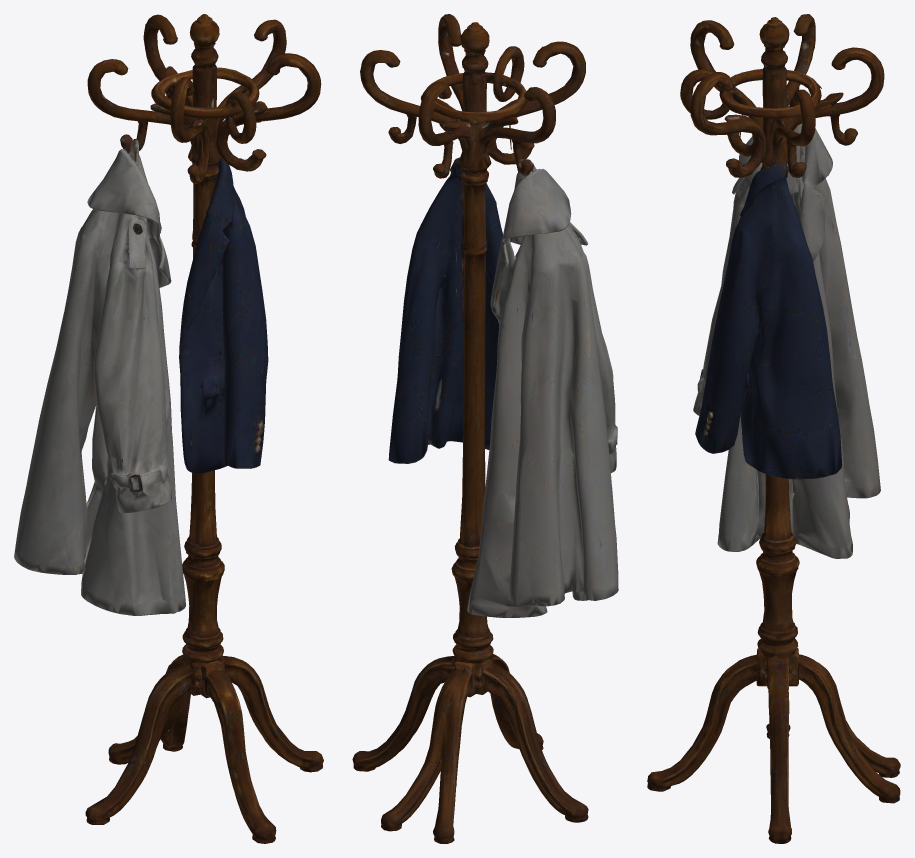
Rendered from rack_b.glb.
3 views of the same model, side by side, from view 1: azimuth 30°, elevation 25°; view 2: azimuth 150°, elevation 25°; view 3: azimuth 270°, elevation 25° (orthographic).
Bounding box in the file's own units: 0.7232 × 1.9 × 0.568.
1 material, 1 textured.
